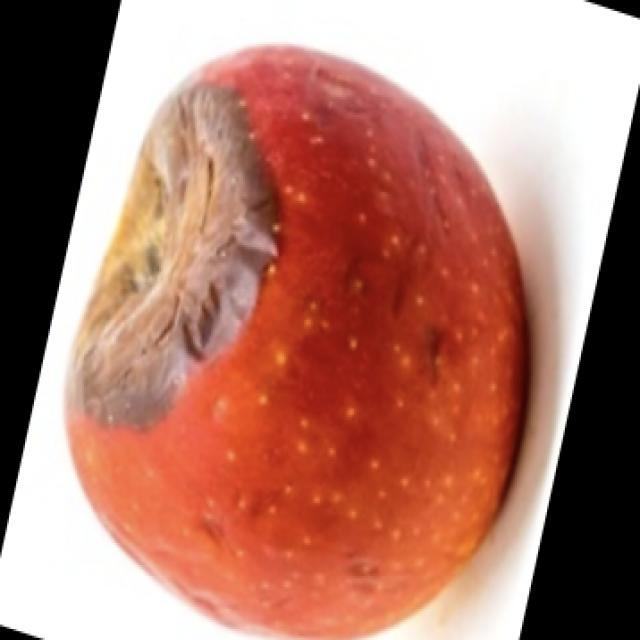Rotten: (93, 55, 510, 607)
